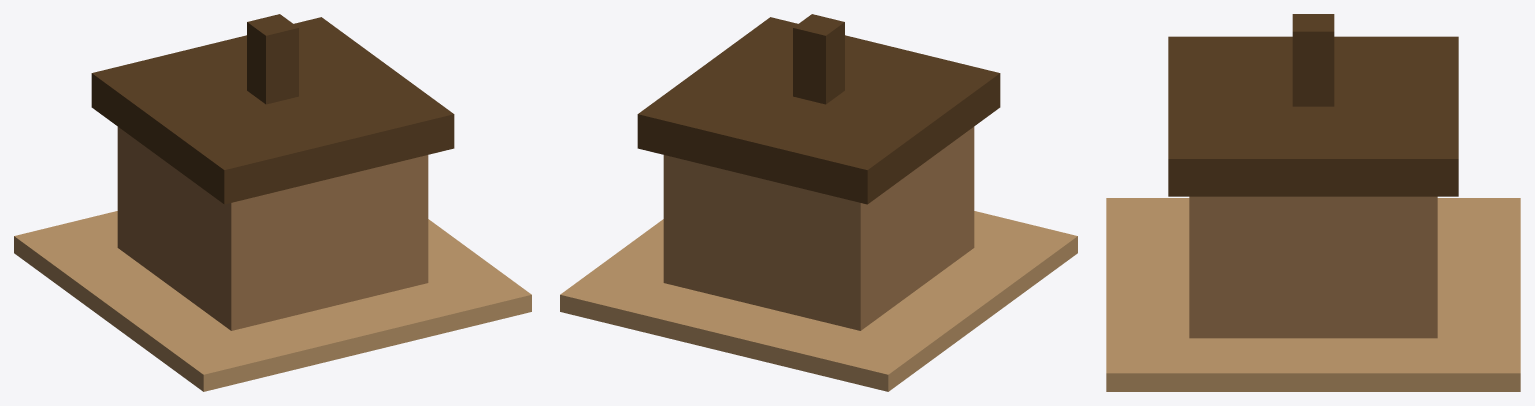
Rendered from zone-signpost.glb.
3 renders of one model, left to right at view 1: azimuth 30°, elevation 25°; view 2: azimuth 150°, elevation 25°; view 3: azimuth 270°, elevation 25°, orthographic. The views are drawn at different scales.
Parts seen in each view (by area): view 1: body, roof, ground, spire; view 2: body, roof, ground, spire; view 3: ground, roof, body, spire.
Boxes of the visible parts, left/top/right/bottom form: body: left=117, top=127, right=428, bottom=330; roof: left=91, top=17, right=454, bottom=204; ground: left=14, top=211, right=531, bottom=391; spire: left=247, top=14, right=298, bottom=104; body: left=663, top=127, right=974, bottom=330; roof: left=637, top=17, right=1000, bottom=204; ground: left=560, top=211, right=1077, bottom=391; spire: left=793, top=14, right=844, bottom=104; ground: left=1106, top=198, right=1520, bottom=391; roof: left=1168, top=36, right=1458, bottom=196; body: left=1189, top=196, right=1437, bottom=338; spire: left=1292, top=14, right=1334, bottom=106.
Bounding box in the file's own units: 4 × 3 × 4.
